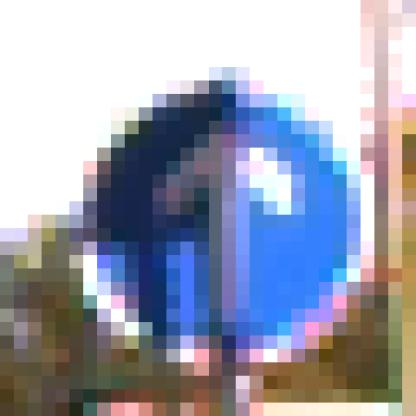AheadOnly: (84, 81, 348, 350)
